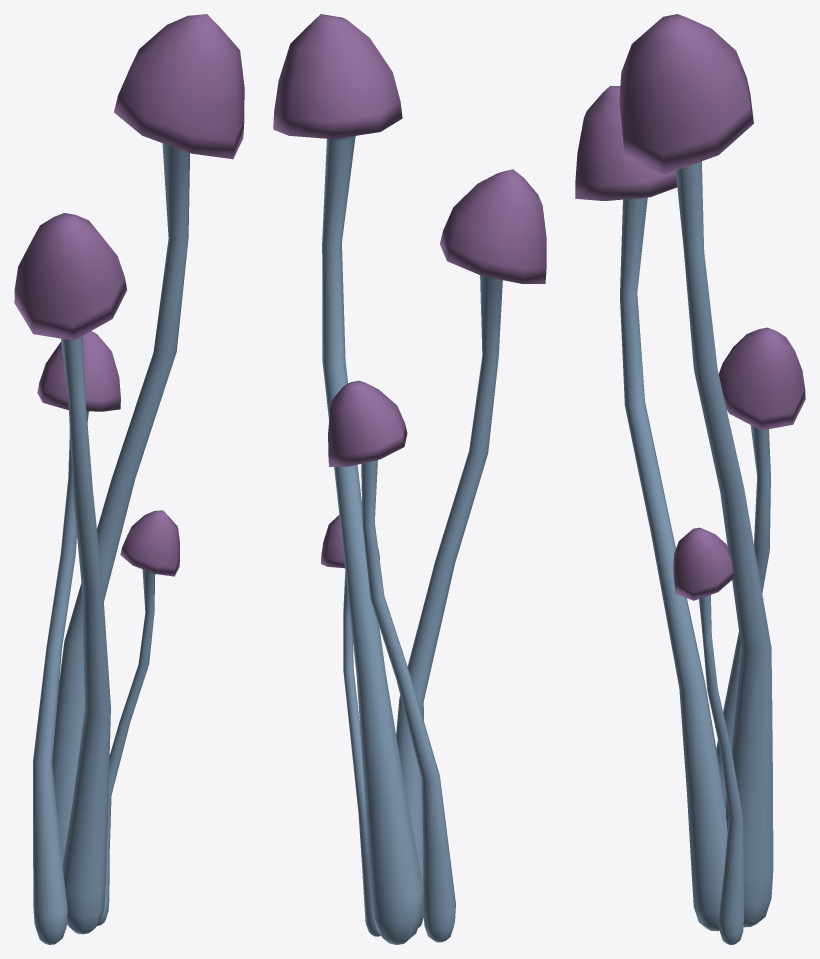
The picture shows the model from 3 angles, left to right: view 1: azimuth 30°, elevation 25°; view 2: azimuth 150°, elevation 25°; view 3: azimuth 270°, elevation 25°; orthographic projection. The views are drawn at different scales.
Parts seen in each view (by area): view 1: lowpolymushroom_17; view 2: lowpolymushroom_17; view 3: lowpolymushroom_17.
Boxes of the visible parts, left/top/right/bottom form: lowpolymushroom_17: left=14, top=14, right=244, bottom=944; lowpolymushroom_17: left=273, top=14, right=546, bottom=944; lowpolymushroom_17: left=575, top=14, right=805, bottom=944.
Size of the model in its own units: 0.1735 by 0.6427 by 0.1389.
